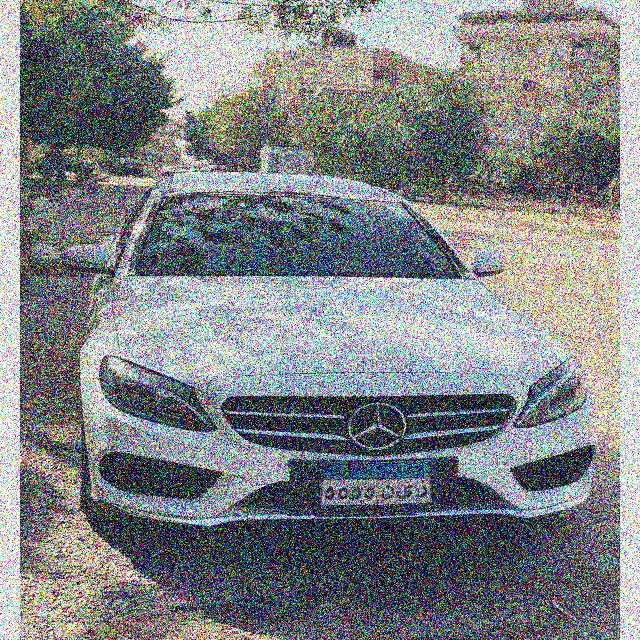License Plate: (317, 458, 436, 509)
